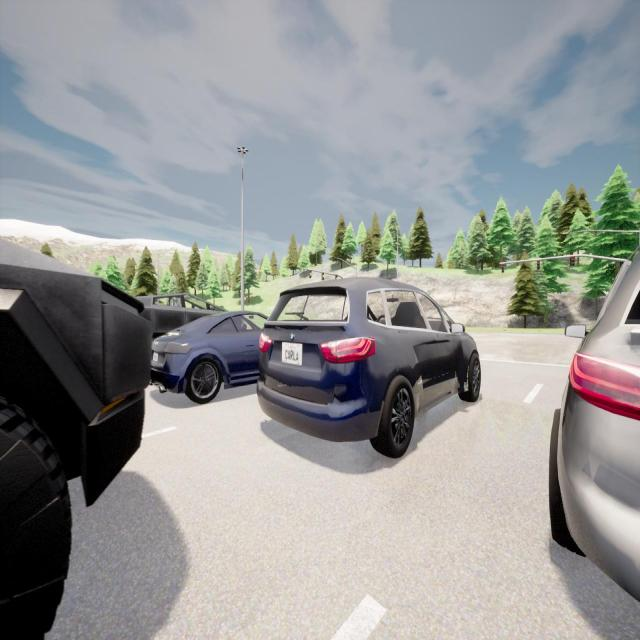Vehicle: (0, 239, 152, 637), (258, 276, 480, 458), (549, 242, 640, 610), (152, 312, 267, 403), (137, 294, 227, 335)
traffic_light: (570, 256, 574, 267), (537, 260, 540, 270), (309, 270, 312, 278), (321, 272, 324, 280), (502, 263, 504, 273), (336, 274, 338, 280)
